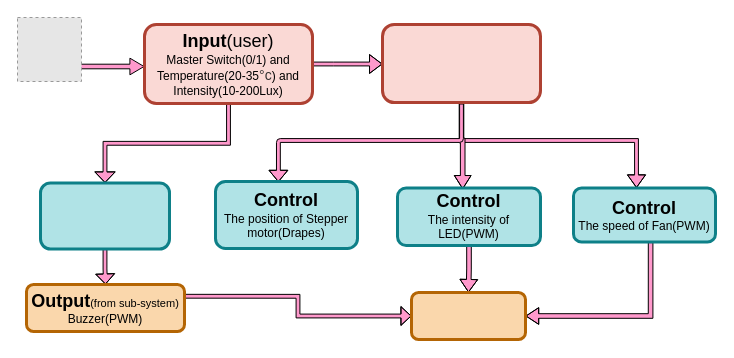
This 734x358 diagram has some shape labels left out. Grey dashed boxes stand in for pictures. The centre of each missing label's shape, as x and y in pixels:
Control The Door Closed(0)/Opened(1): point 104,215
Input (room) Temperature(20-35 °c ) and Intensity(10-200Lux): point 461,63
Output Print on LCD: point 468,315
